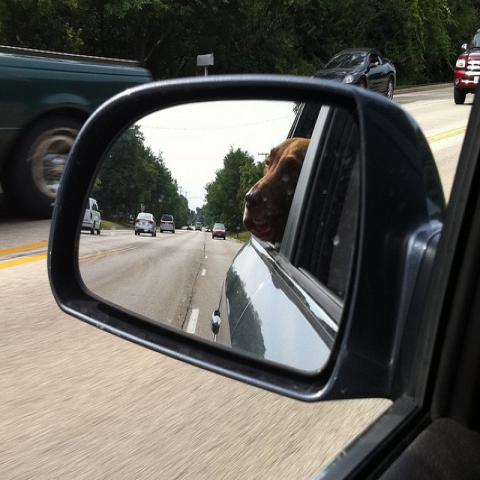car: (41, 64, 479, 473), (315, 46, 397, 99), (453, 27, 480, 104), (135, 213, 157, 234), (212, 224, 226, 239)
truck: (1, 50, 158, 216)
